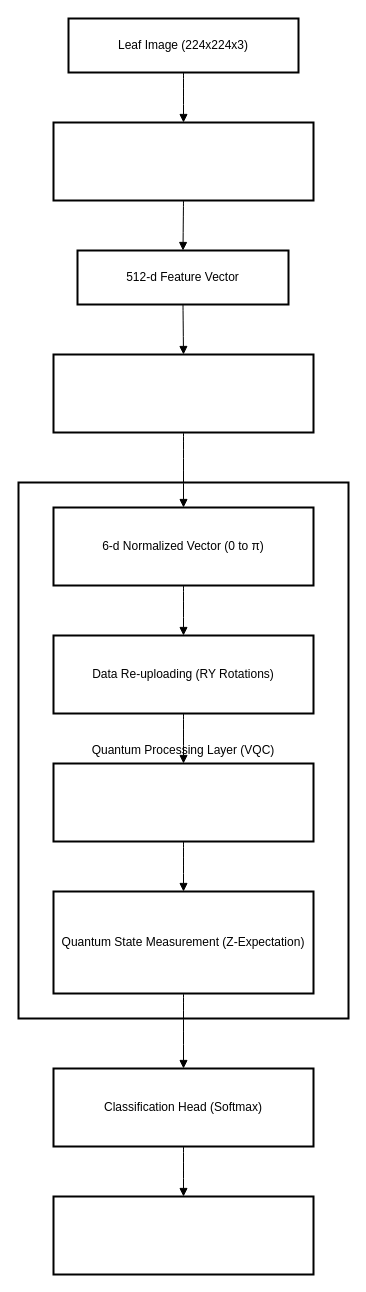
The diagram is 366 pixels wide and 1292 high, and some of its shapes have lost their labels. The shapes that lost their labels are listed below. From the top down, each one's centre as x and y in pixels, then its label:
the point at 183,161: Classical Backbone (ResNet-18)
the point at 183,393: Feature Reducer (Linear Layer)
the point at 183,802: Variational Layers (Entanglement)
the point at 183,1235: 22-Class Prediction + Confidence
